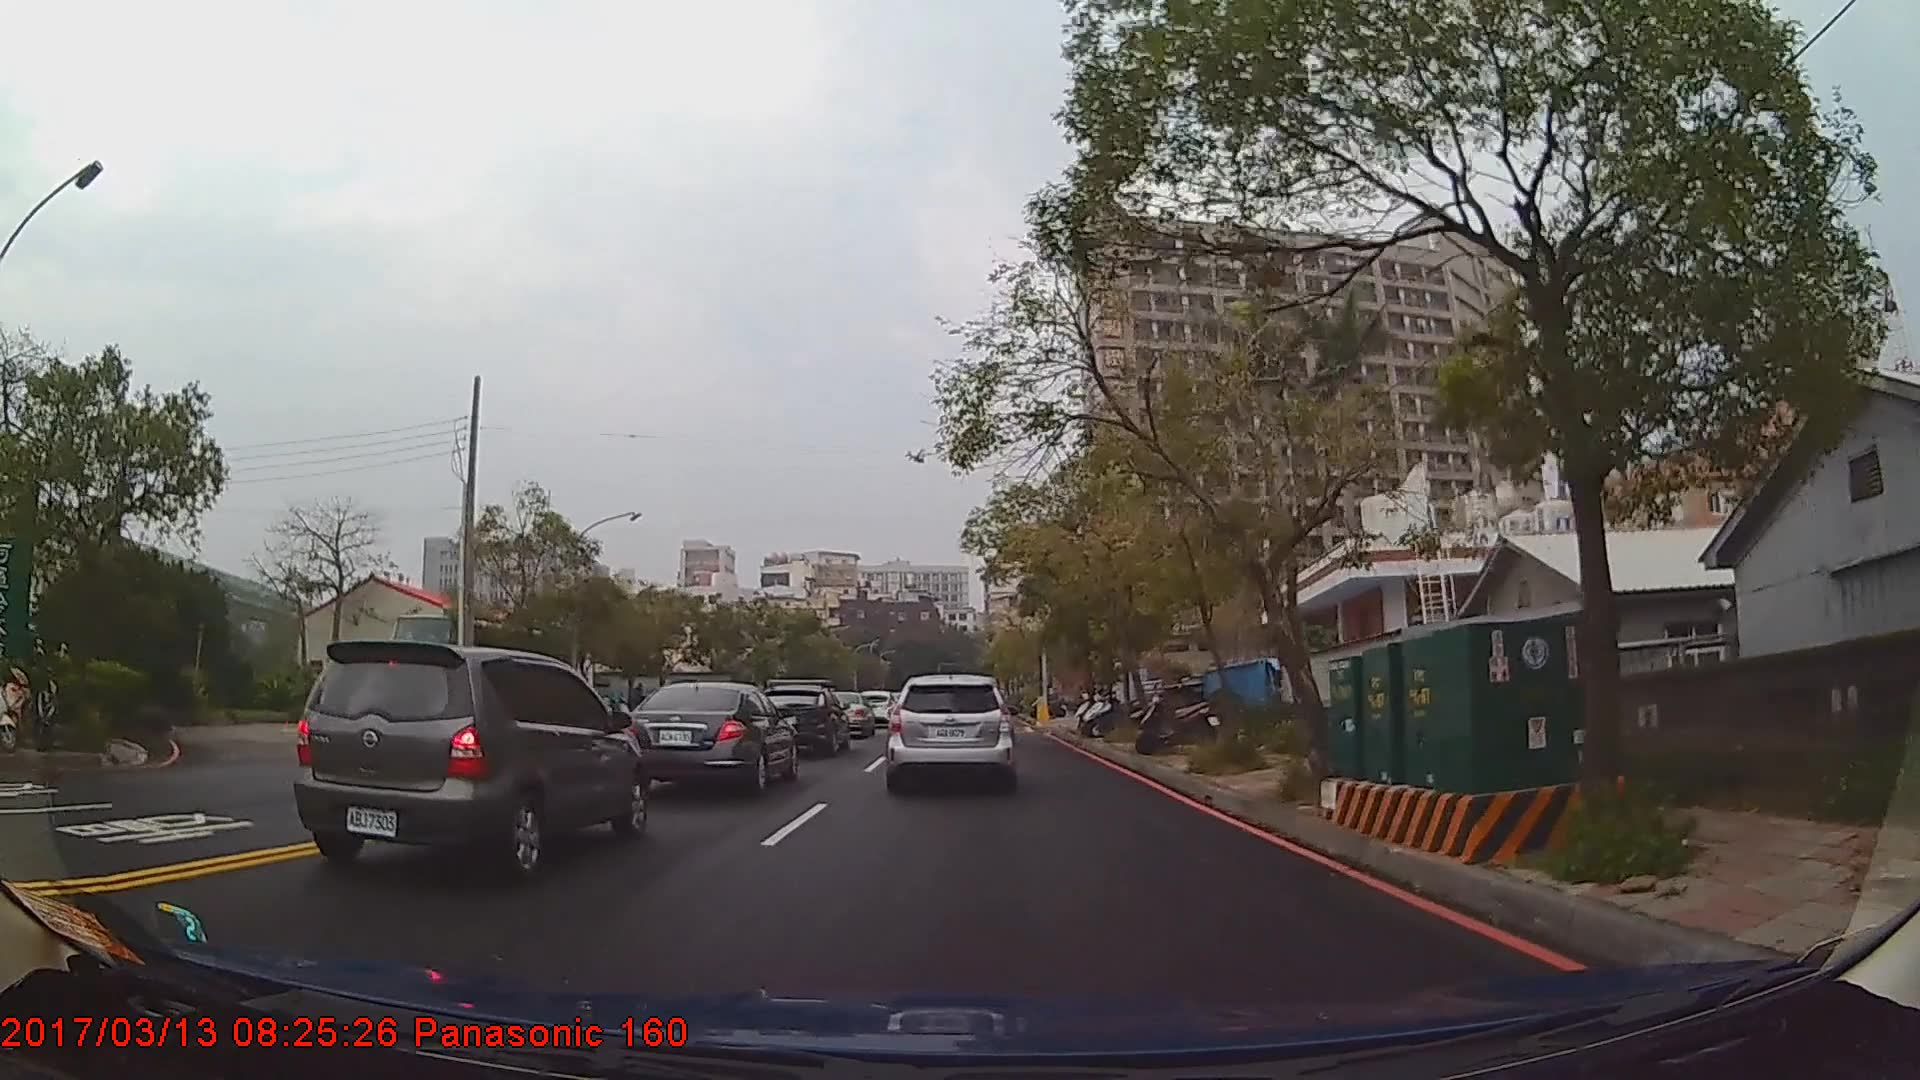vehicle: (290, 637, 647, 876), (618, 676, 800, 793), (886, 670, 1017, 787), (754, 684, 849, 756), (818, 688, 873, 736)
